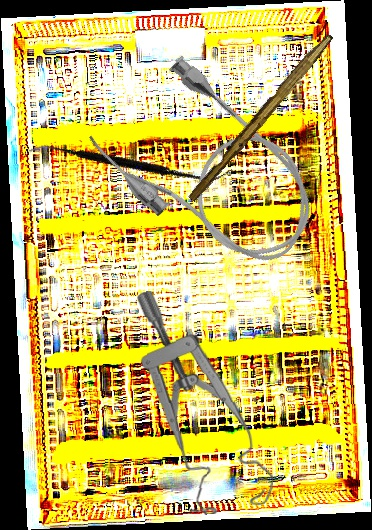Cannula: (79, 44, 340, 297)
Scalpel Handle: (186, 28, 335, 206)
Spatula Surgical: (26, 82, 231, 241)
Speculum: (136, 287, 275, 517)
